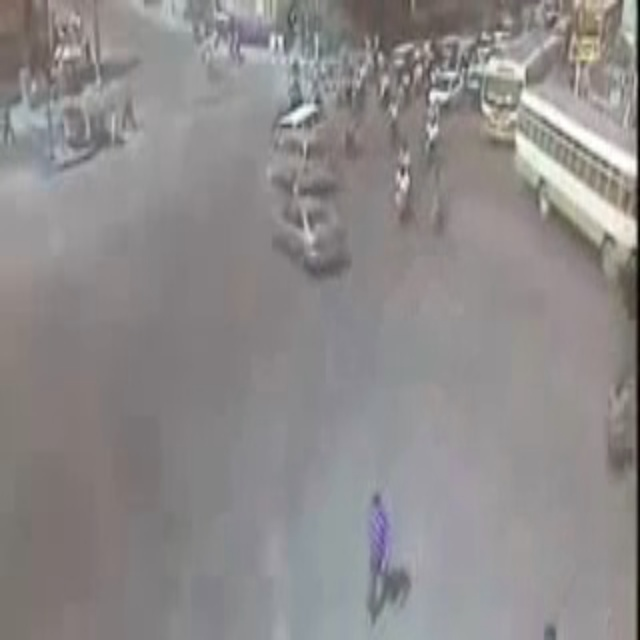acc: (265, 104, 331, 192)
